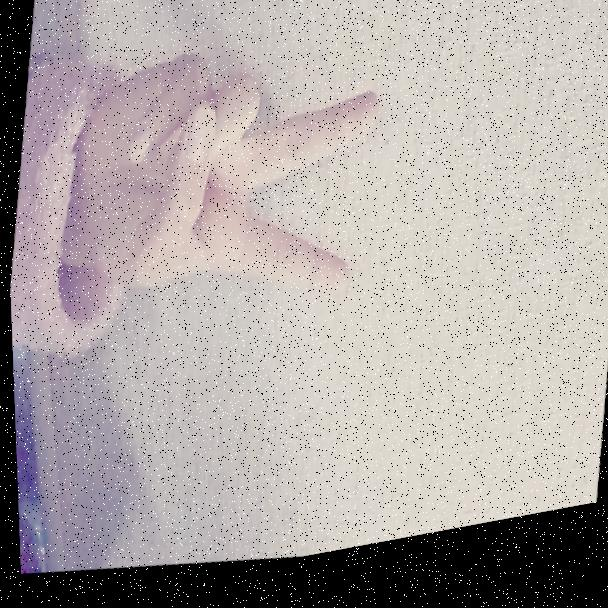two: (25, 0, 413, 438)
